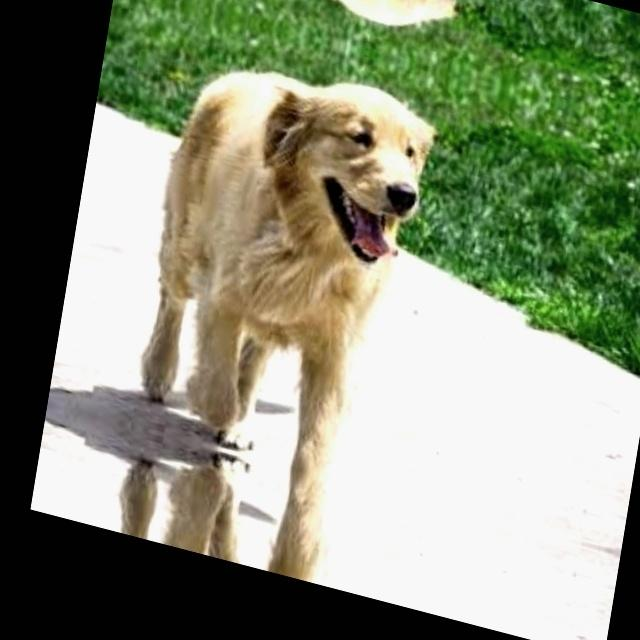dog: (104, 27, 442, 490), (87, 420, 378, 596), (176, 0, 463, 47)
